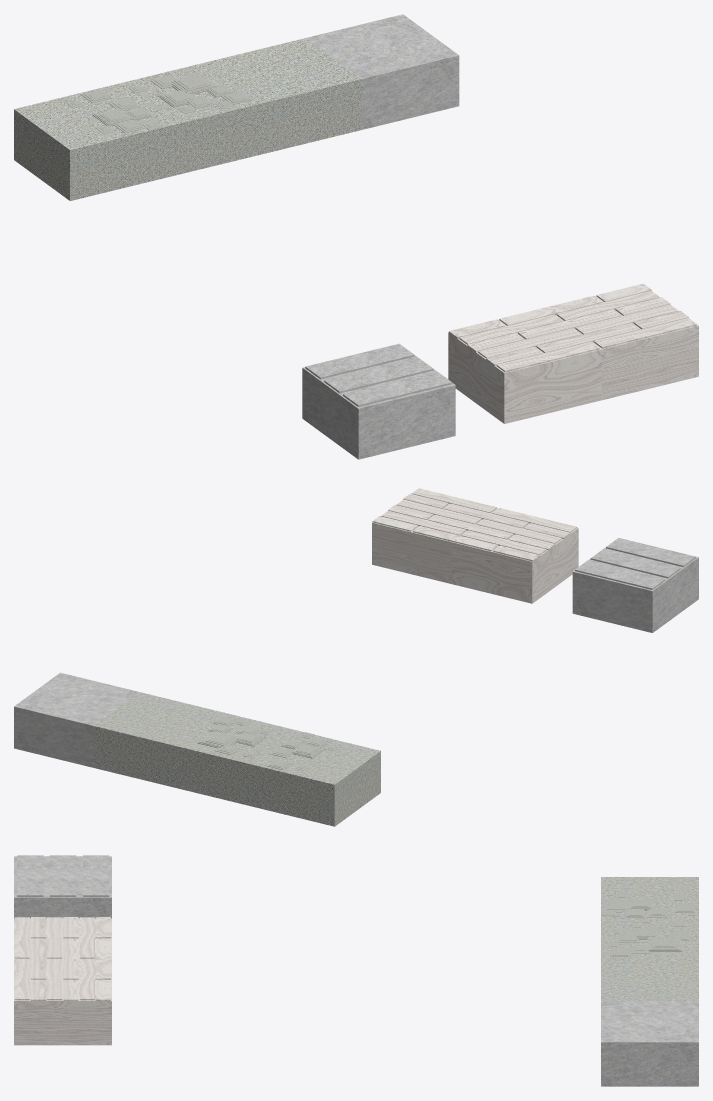
Rendered from floors.fbx.
The picture shows the model from 3 angles, top to bottom: view 1: azimuth 30°, elevation 25°; view 2: azimuth 150°, elevation 25°; view 3: azimuth 270°, elevation 25°; orthographic projection. The views are drawn at different scales.
Parts seen in each view (by area): view 1: floor_wood, mesh_celling, mesh_floor_carpet_side, mesh_floor_carpet_plain, mesh_floor_concrete, mesh_floor_carpet_pattern; view 2: floor_wood, mesh_floor_carpet_side, mesh_celling, mesh_floor_concrete, mesh_floor_carpet_plain, mesh_floor_carpet_pattern; view 3: floor_wood, mesh_floor_concrete, mesh_celling, mesh_floor_carpet_plain, mesh_floor_carpet_pattern, mesh_floor_carpet_side.
Part boxes in pixels (x1,y1,x2,y2): floor_wood: (448, 283, 698, 423); mesh_celling: (302, 343, 455, 459); mesh_floor_carpet_side: (14, 85, 167, 200); mesh_floor_carpet_plain: (209, 38, 361, 153); mesh_floor_concrete: (306, 14, 459, 129); mesh_floor_carpet_pattern: (111, 61, 264, 177); floor_wood: (372, 488, 578, 603); mesh_floor_carpet_side: (254, 731, 380, 826); mesh_celling: (572, 538, 698, 632); mesh_floor_concrete: (14, 672, 139, 767); mesh_floor_carpet_plain: (94, 692, 220, 787); mesh_floor_carpet_pattern: (174, 712, 300, 806); floor_wood: (14, 917, 111, 1045); mesh_floor_concrete: (601, 1001, 698, 1086); mesh_celling: (14, 855, 111, 918); mesh_floor_carpet_plain: (601, 959, 698, 1000); mesh_floor_carpet_pattern: (601, 918, 698, 959); mesh_floor_carpet_side: (601, 877, 698, 918).
Bounding box in the file's own units: 4.5 × 0.5231 × 7.
Materials: 3 (3 with a texture image).
